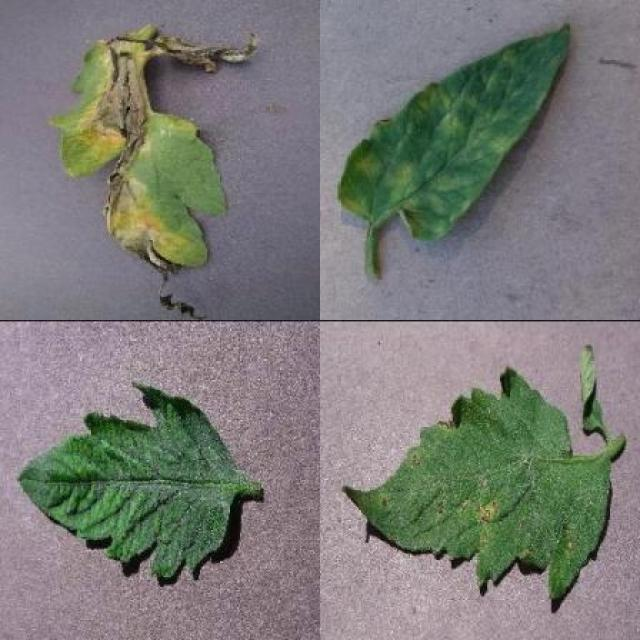Late Blight: (46, 26, 260, 320)
Leaf Mold: (338, 22, 568, 242)
Mosaic Virus: (17, 380, 244, 580)
Septoria: (342, 366, 612, 605)
